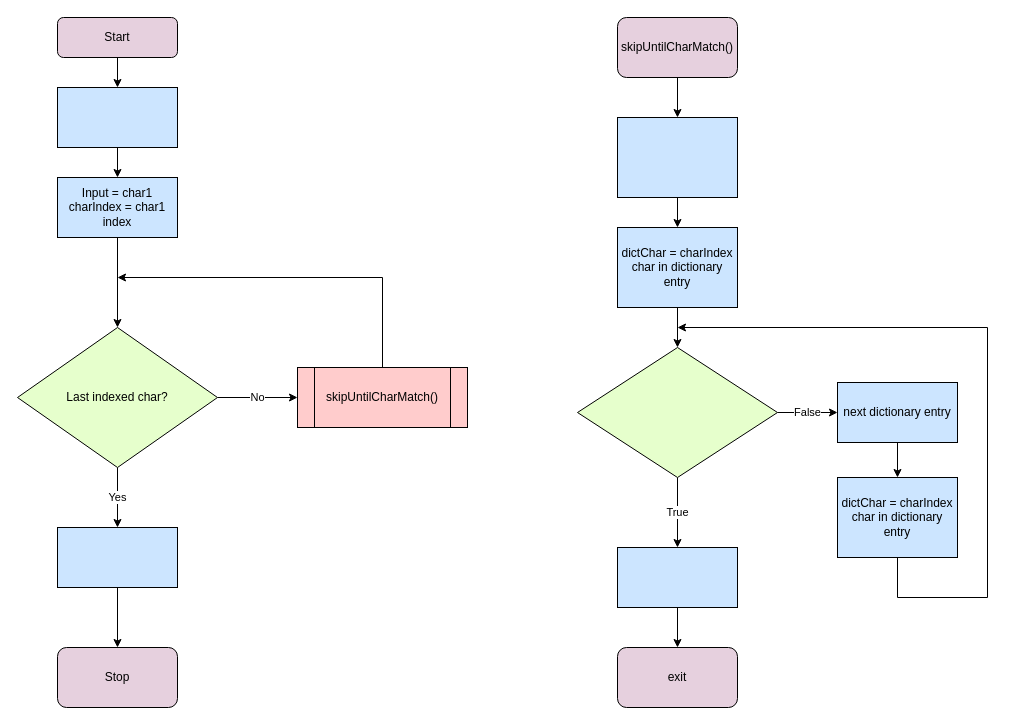
This 1013x725 diagram has some shape labels left out. The centre of each missing label's shape, as x and y in pixels:
charIndex ++ input ++: (x=677, y=577)
dictChar == input: (x=677, y=412)
List chars in word by index (char1 = '1', char2 = '2'): (x=117, y=117)
Match found: (x=117, y=557)
select first dictionary entry ("a"): (x=677, y=157)
